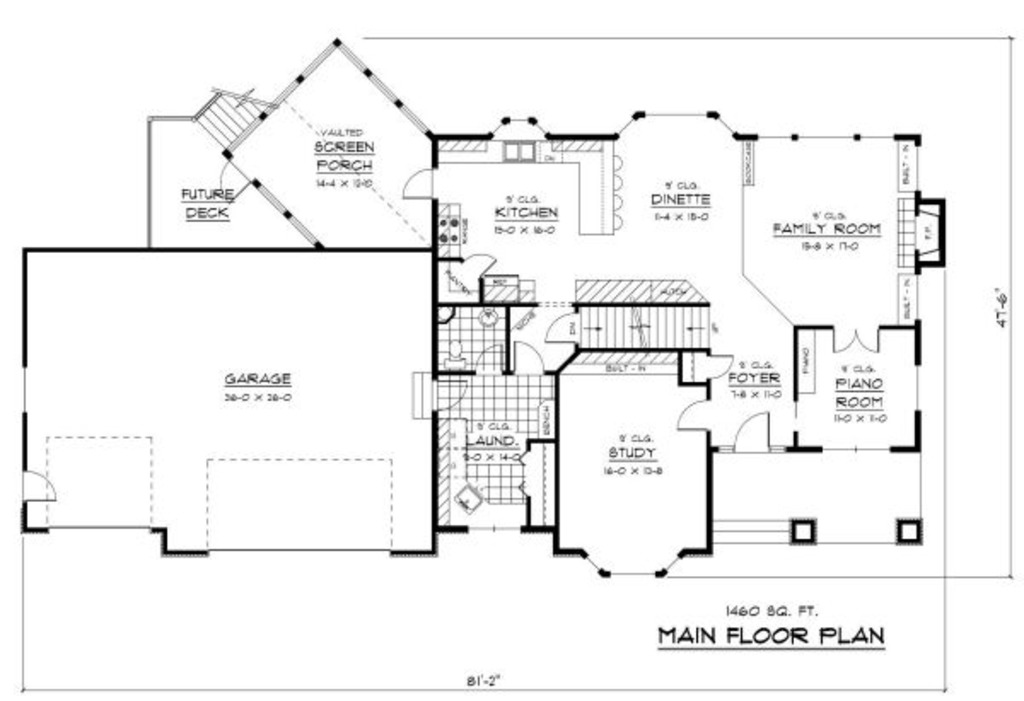door: (734, 409, 771, 456), (832, 323, 880, 356), (22, 466, 57, 508), (511, 338, 545, 376), (675, 400, 712, 432), (400, 168, 436, 200), (540, 312, 576, 343), (463, 247, 496, 280), (709, 349, 737, 380)
kitchen_bar: (576, 145, 625, 240)
large_sink: (442, 338, 468, 371)
stairs: (574, 306, 713, 350), (193, 85, 275, 146)
twin_sink: (500, 140, 536, 165)
windows: (631, 106, 715, 125), (754, 132, 896, 142)
